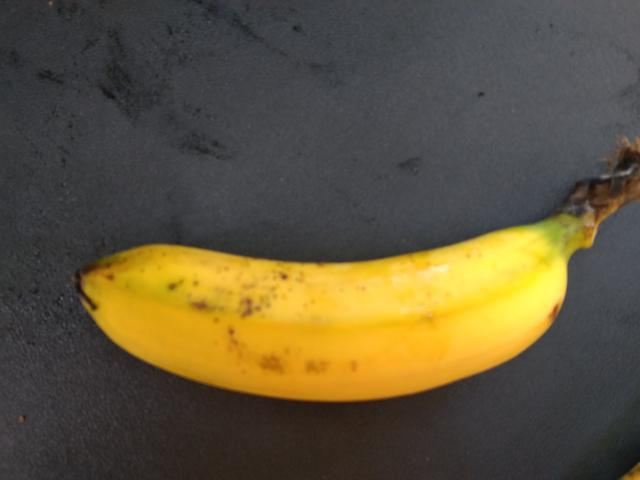ripe: (67, 216, 578, 430)
